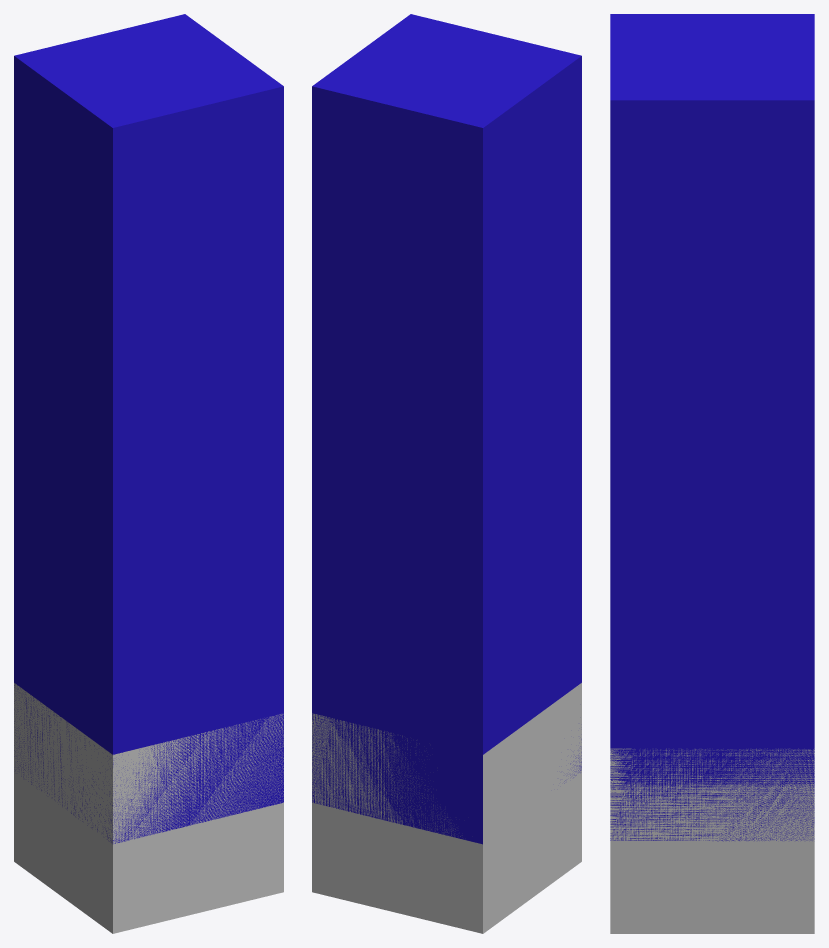
Rendered from ZAxis.fbx.
The picture shows the model from 3 angles, left to right: view 1: azimuth 30°, elevation 25°; view 2: azimuth 150°, elevation 25°; view 3: azimuth 270°, elevation 25°; orthographic projection. The views are drawn at different scales.
Parts seen in each view (by area): view 1: Cube.001, Cube.003; view 2: Cube.001, Cube.003; view 3: Cube.001, Cube.003.
Part boxes in pixels (left/top/right/bottom): Cube.001: left=14, top=14, right=283, bottom=843; Cube.003: left=14, top=683, right=283, bottom=933; Cube.001: left=312, top=14, right=581, bottom=844; Cube.003: left=312, top=683, right=581, bottom=933; Cube.001: left=610, top=14, right=814, bottom=841; Cube.003: left=610, top=748, right=814, bottom=933.
Bounding box in the file's own units: 50 × 225 × 50.
